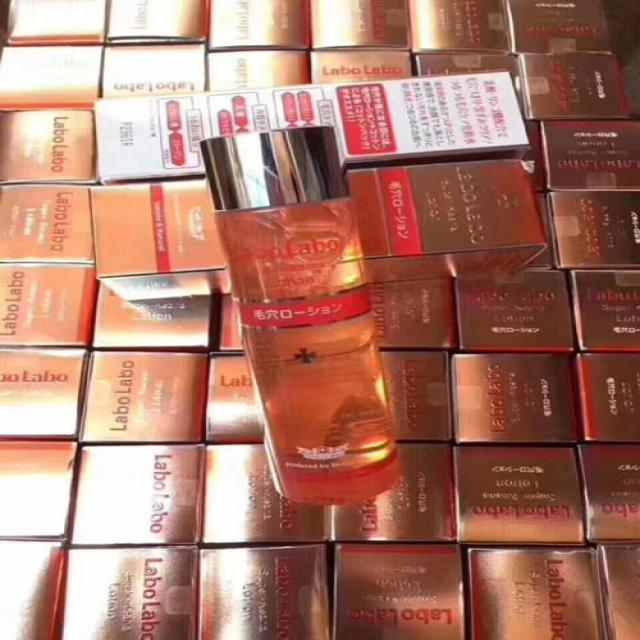box: (200, 443, 328, 548), (454, 448, 586, 548), (70, 444, 198, 547), (198, 544, 332, 640), (333, 542, 463, 640), (467, 548, 605, 640), (329, 443, 457, 542), (64, 546, 197, 640), (448, 356, 581, 446), (78, 352, 204, 441), (456, 270, 575, 353), (0, 346, 87, 439), (0, 261, 95, 344), (0, 440, 81, 537), (515, 53, 630, 120), (0, 181, 93, 263), (92, 284, 211, 348), (545, 189, 640, 269), (0, 108, 97, 185), (539, 120, 640, 190), (380, 348, 456, 441), (0, 537, 67, 640), (367, 276, 460, 349), (0, 46, 104, 111), (576, 442, 640, 545), (567, 269, 640, 354), (503, 0, 614, 54), (575, 352, 640, 444), (408, 0, 513, 56), (102, 43, 206, 96), (207, 0, 312, 51), (204, 352, 262, 444), (310, 0, 412, 51), (108, 0, 209, 45), (593, 544, 640, 640), (5, 0, 108, 43), (205, 51, 312, 92), (311, 50, 413, 85), (416, 55, 518, 75), (220, 296, 244, 351)
